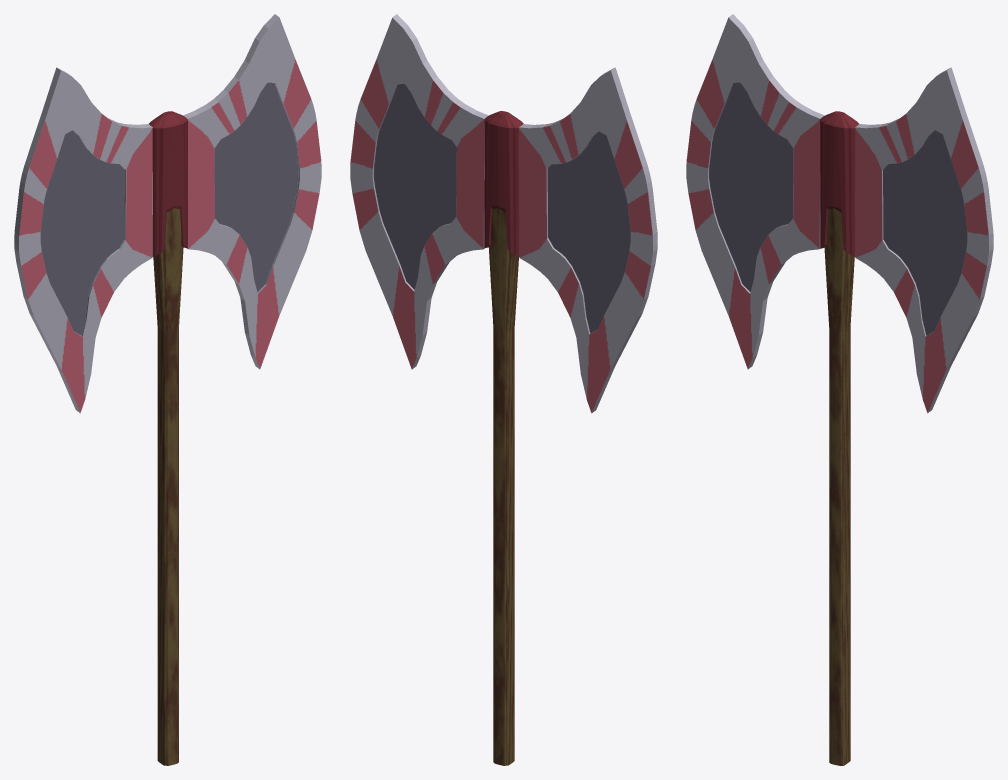
Rendered from Секира.fbx.
3 views of the same model, side by side, from view 1: azimuth 30°, elevation 25°; view 2: azimuth 150°, elevation 25°; view 3: azimuth 330°, elevation 25° (orthographic).
Parts seen in each view (by area): view 1: железо; view 2: железо; view 3: железо.
Boxes of the visible parts, x1=… form: железо: x1=14, y1=14, x2=321, y2=765; железо: x1=350, y1=14, x2=657, y2=765; железо: x1=686, y1=14, x2=993, y2=765.
Size of the model in its own units: 0.8733 by 1.98 by 0.0599.
1 material, 1 textured.
